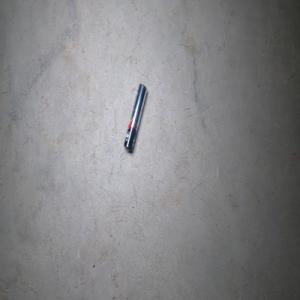Battery: (123, 83, 147, 152)
